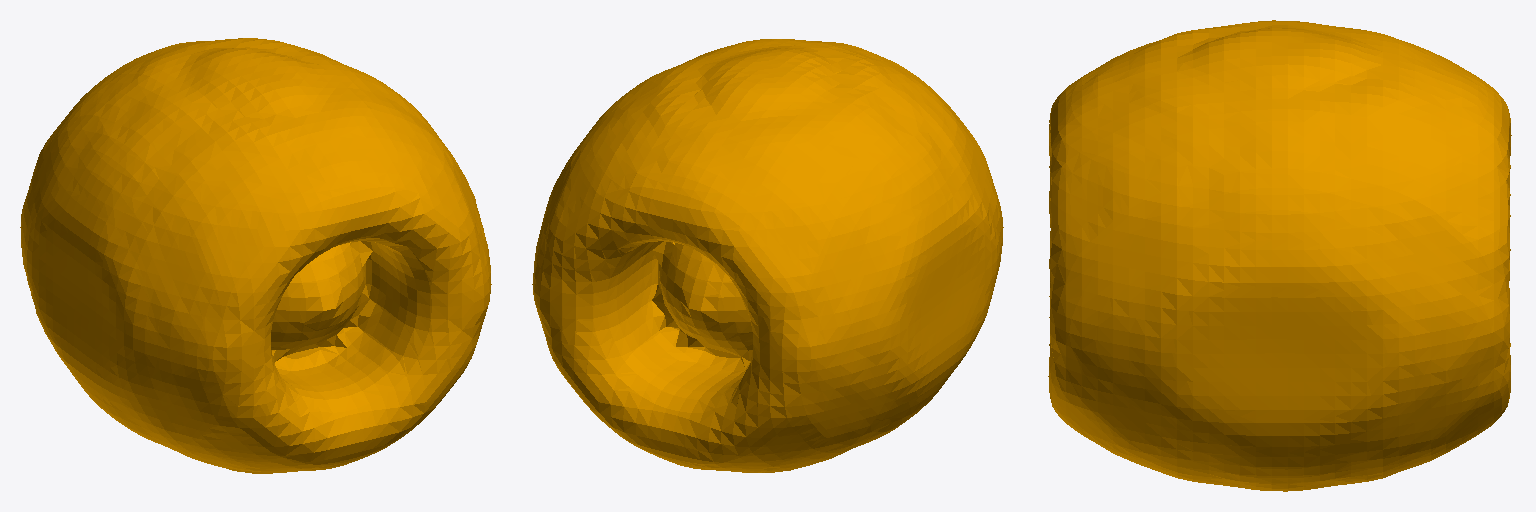
The robot description file, URDF, robot "B2":
<?xml version="1.0"?>
<robot name="B2">
  <link name="base_link">
    <visual>
      <geometry>
        <mesh filename="../../../../meshes/egad/eval/B2.obj" />
      </geometry>
    </visual>
  </link>
</robot>

--- Render facts (derived) ---
Views: 3 orthographic renders of the robot side by side, from view 1: azimuth 30°, elevation 25°; view 2: azimuth 150°, elevation 25°; view 3: azimuth 270°, elevation 25°.
Model B2 with 1 links and 0 joints (none), rooted at base_link, posed all joints at 0.
Links seen in each view (by area): view 1: base_link; view 2: base_link; view 3: base_link.
Boxes of the visible links, <box> form: base_link: <box>20,38,491,473</box>; base_link: <box>532,39,1003,472</box>; base_link: <box>1048,20,1511,491</box>.
Size in the robot's own frame: 0.0601 by 0.06 by 0.0602 metres.
Meshes: 1 distinct files referenced, 1 mesh visuals loaded (1 OBJ).